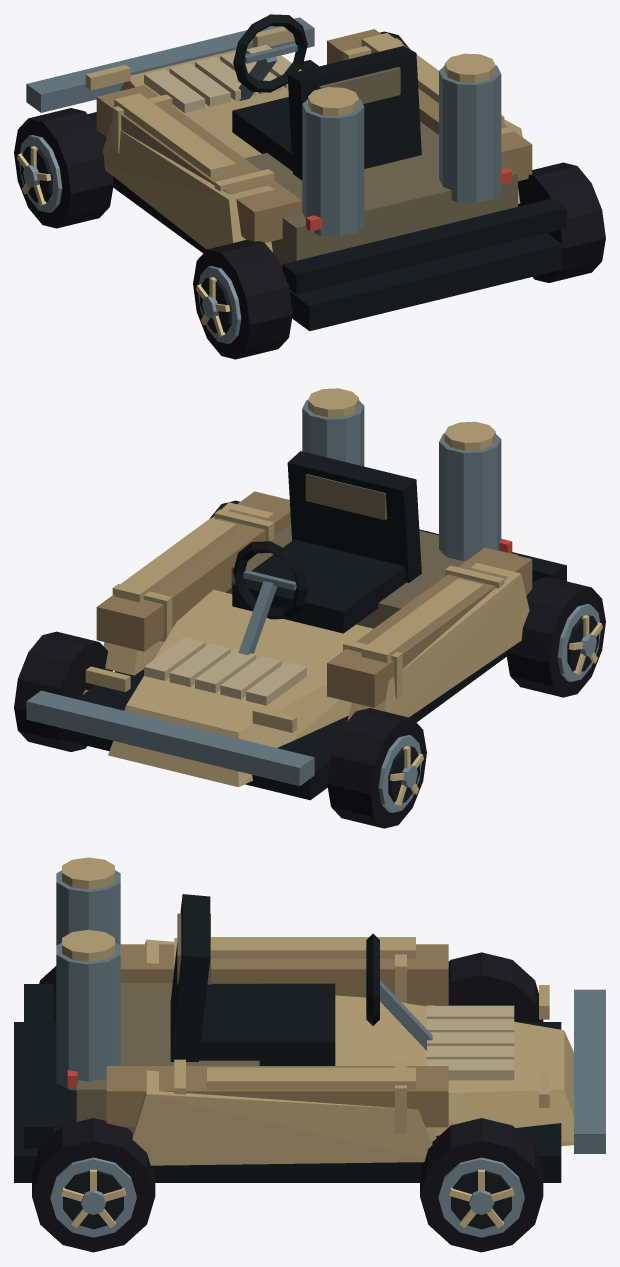
The model's file is kart.glb.
3 views of the same model, one above another, from view 1: azimuth 30°, elevation 25°; view 2: azimuth 150°, elevation 25°; view 3: azimuth 270°, elevation 25° (orthographic). The views are drawn at different scales.
Parts seen in each view (by area): view 1: chassis, wheel-rear-left, wheel-front-left, wheel-rear-right; view 2: chassis, wheel-front-left, wheel-rear-left, wheel-front-right; view 3: chassis, wheel-front-right, wheel-rear-right, wheel-front-left.
Part boxes in pixels (<box>): chassis: <box>26,14,566,331</box>; wheel-rear-left: <box>193,240,292,359</box>; wheel-front-left: <box>14,108,113,228</box>; wheel-rear-right: <box>518,162,605,282</box>; chassis: <box>26,388,566,800</box>; wheel-front-left: <box>327,708,426,828</box>; wheel-rear-left: <box>506,577,605,697</box>; wheel-front-right: <box>14,631,112,751</box>; chassis: <box>14,857,605,1182</box>; wheel-front-right: <box>420,1118,543,1252</box>; wheel-rear-right: <box>32,1118,155,1252</box>; wheel-front-left: <box>435,952,543,1021</box>.
Bounding box in the file's own units: 2.41 × 1.4 × 2.98.
